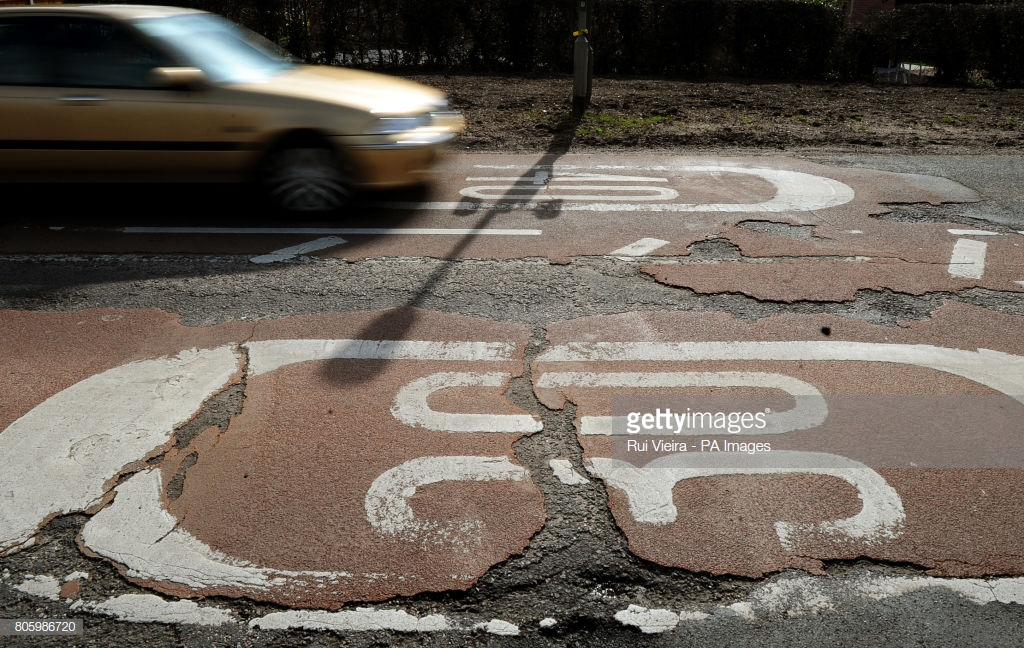pothole: (94, 229, 949, 609)
